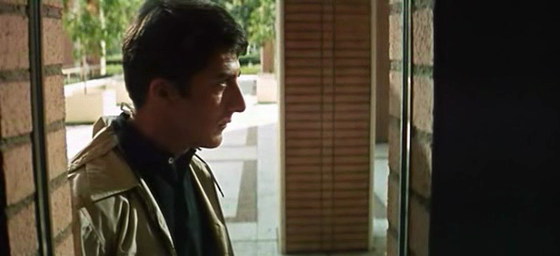face: (184, 57, 247, 149)
mcu: (1, 1, 560, 256)
person: (67, 1, 248, 256)
